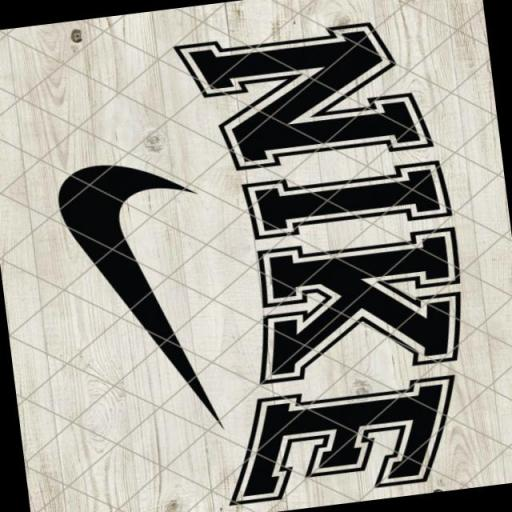Nike: (185, 18, 481, 512), (50, 150, 229, 452)
